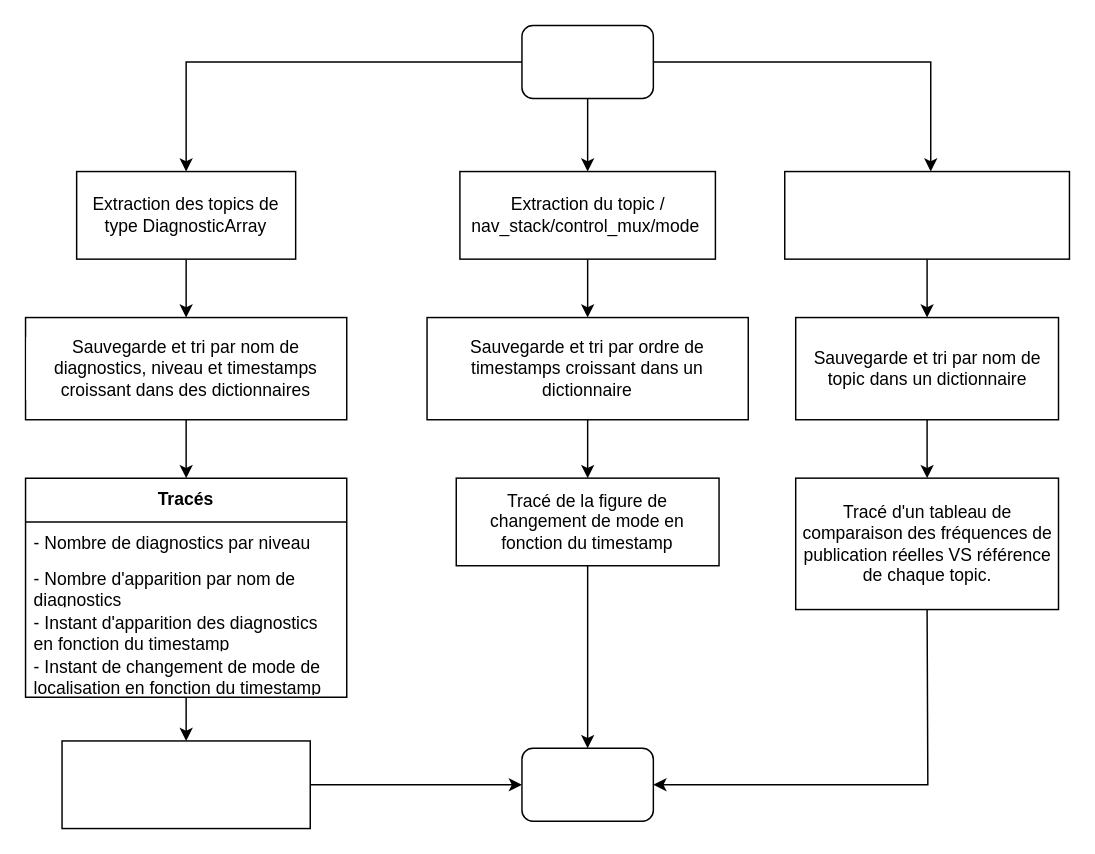
The diagram is 1095 pixels wide and 854 high, and some of its shapes have lost their labels. Here are the shapes that lost their labels. From the top down, the centre of each, then its label:
At point 586,61: "Ouverture du ROS bag".
At point 926,214: "Calcul des fréquences de publication de chaque topic".
At point 185,784: "Génération du résumé de diagnostics au format text".
At point 586,784: "Fermeture du ROS bag".
